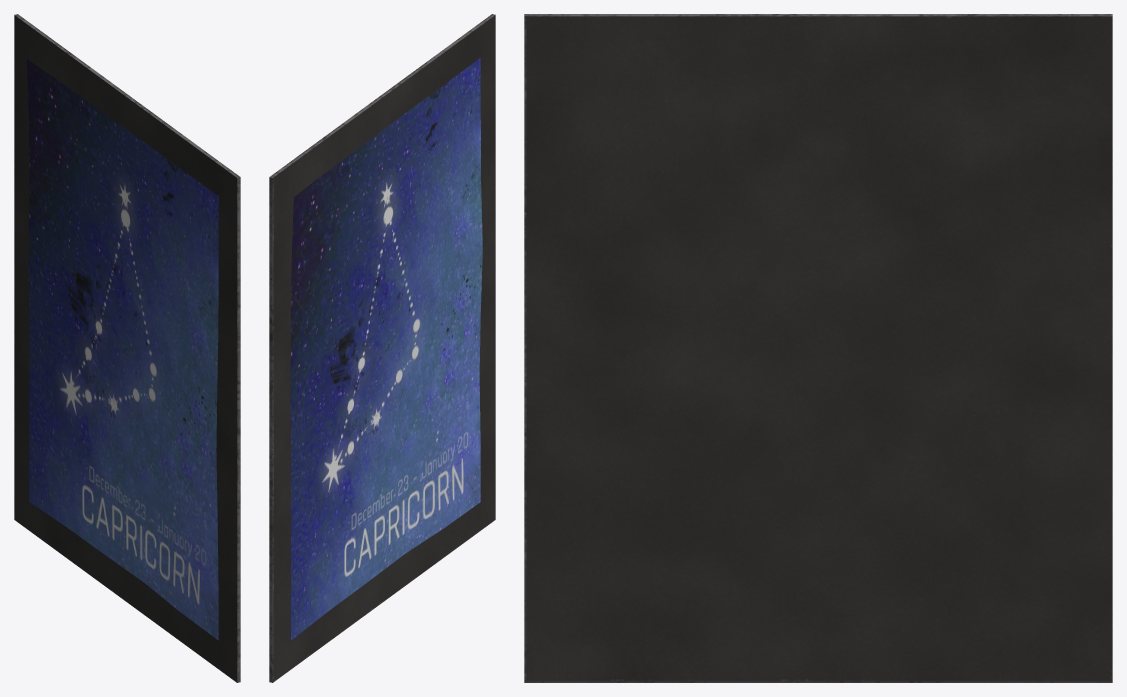
Rendered from SM_Wall_Constellations_01c.fbx.
3 views of the same model, side by side, from view 1: azimuth 30°, elevation 25°; view 2: azimuth 150°, elevation 25°; view 3: azimuth 270°, elevation 25° (orthographic). The views are drawn at different scales.
Parts seen in each view (by area): view 1: SM_Wall_Constellations_01c_LOD0; view 2: SM_Wall_Constellations_01c_LOD0; view 3: SM_Wall_Constellations_01c_LOD0.
Boxes of the visible parts, x1,y1,x2,y2 form: SM_Wall_Constellations_01c_LOD0: [14, 14, 240, 682]; SM_Wall_Constellations_01c_LOD0: [269, 14, 495, 682]; SM_Wall_Constellations_01c_LOD0: [524, 14, 1112, 682].
Size of the model in its own units: 0.8068 by 40 by 50.
